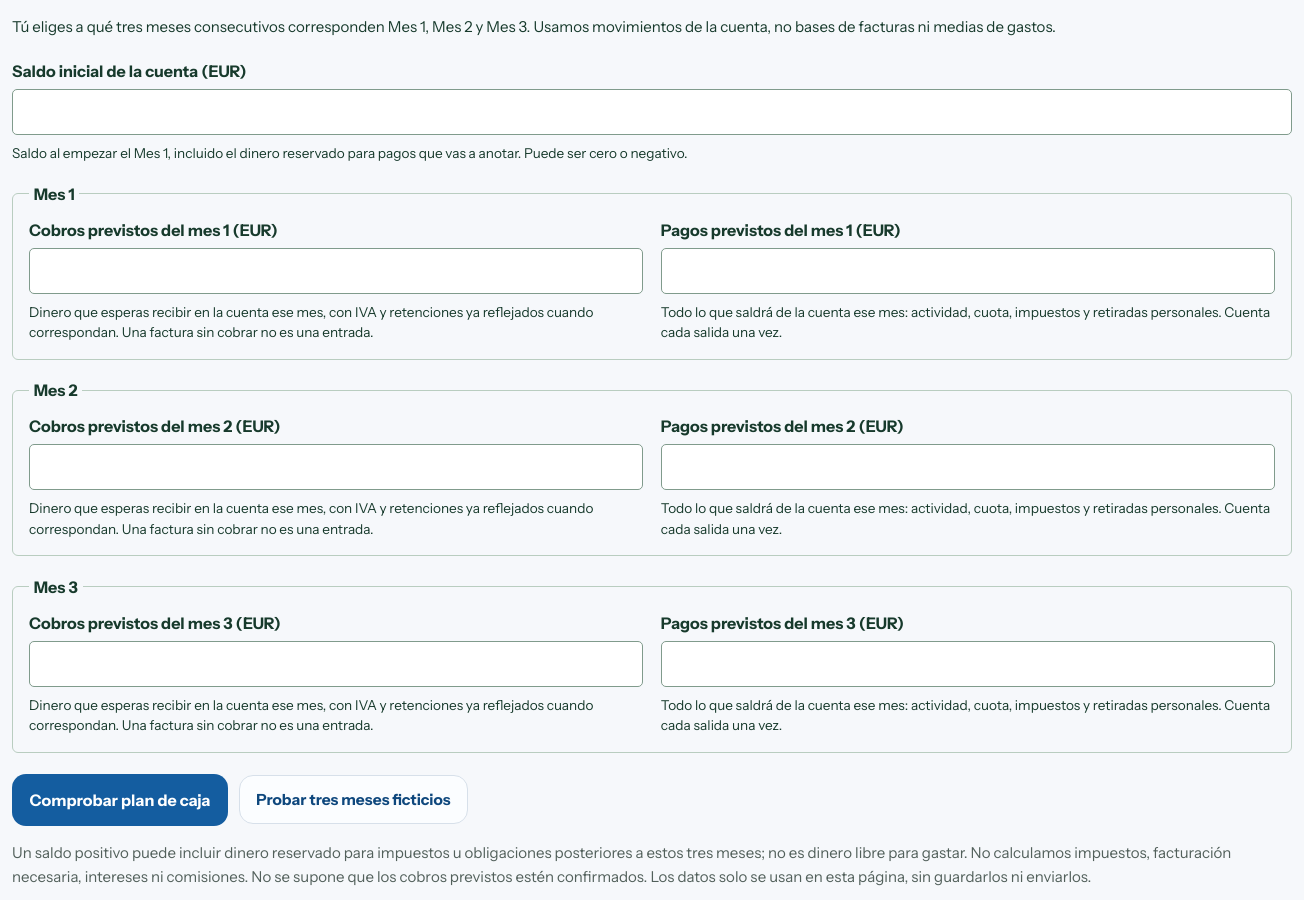
cash flow planner › reproduces the fictional example and exposes an earlier deficit despite a positive final balance
Click the button "Probar tres meses ficticios" at (353, 800), box [239,776,468,824]
(page scrolled)
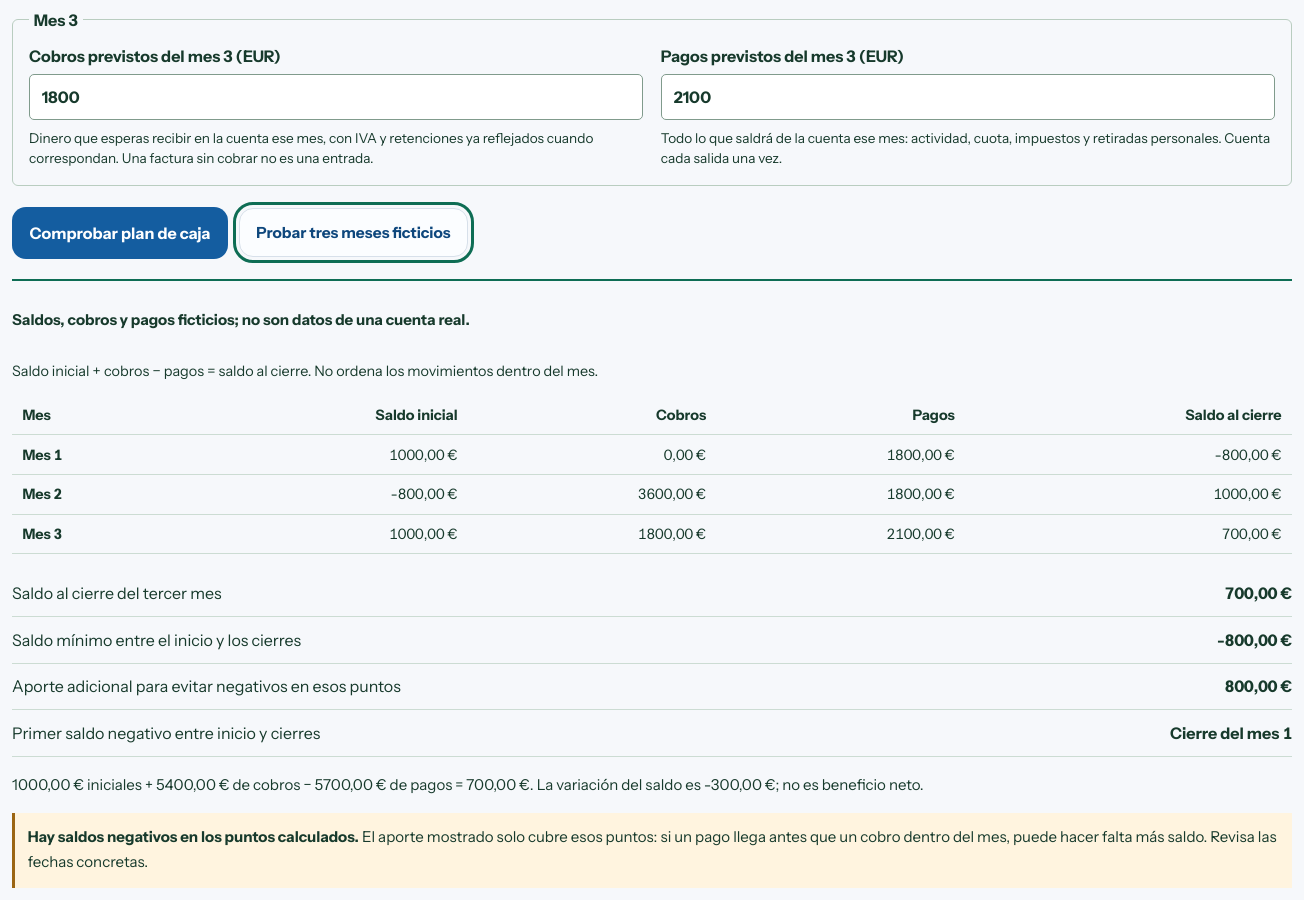
Result: the message named "Plan de caja de tres meses" shows "Saldos, cobros y pagos ficticios" at [12,310,470,329]
Result: the message named "Plan de caja de tres meses" shows "Cierre del mes 1" at [1170,723,1292,743]
